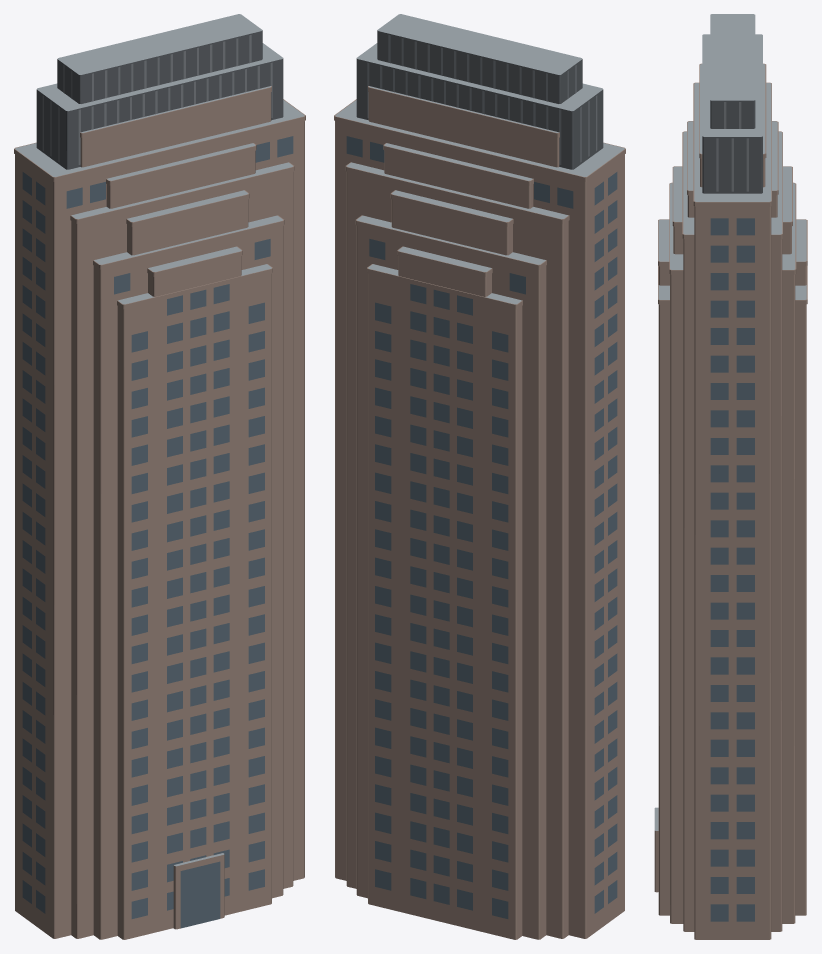
Rendered from phl-three-logan-square.glb.
3 renders of one model, left to right at view 1: azimuth 30°, elevation 25°; view 2: azimuth 150°, elevation 25°; view 3: azimuth 270°, elevation 25°, orthographic. The views are drawn at different scales.
Parts seen in each view (by area): view 1: Three Logan Square; view 2: Three Logan Square; view 3: Three Logan Square.
Part boxes in pixels (left/top/right/bottom): Three Logan Square: left=14, top=14, right=305, bottom=939; Three Logan Square: left=334, top=14, right=625, bottom=939; Three Logan Square: left=654, top=14, right=807, bottom=939.
Bounding box in the file's own units: 69.2 × 222 × 37.45.
